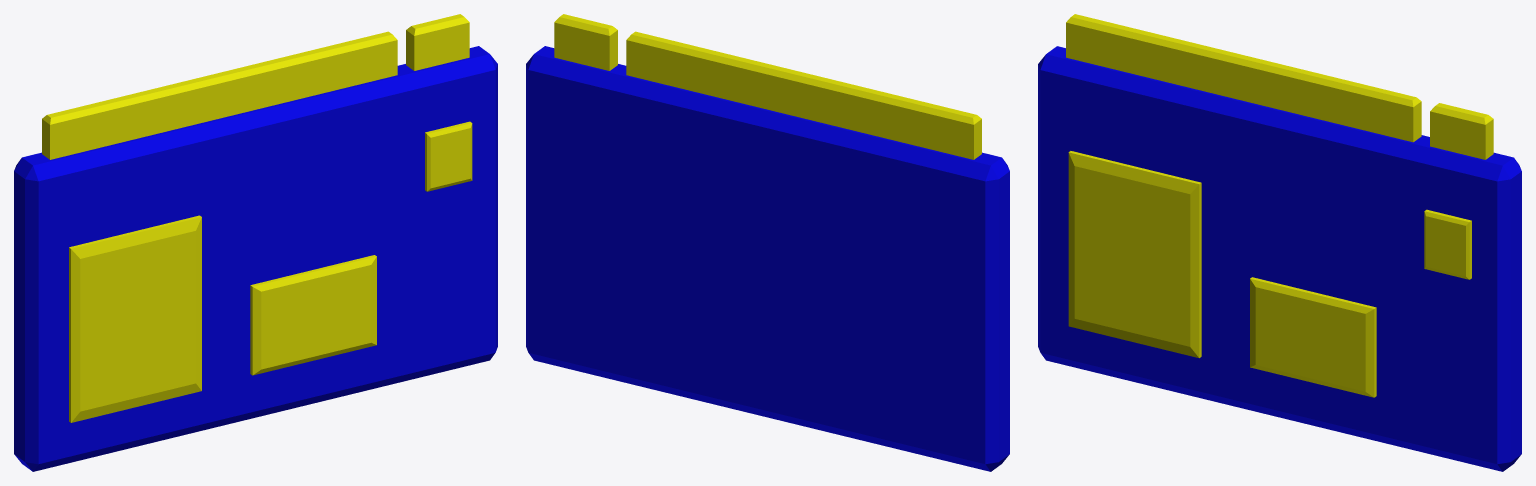
The model's file is Tarjeta_3.fbx.
3 views of the same model, side by side, from view 1: azimuth 30°, elevation 25°; view 2: azimuth 150°, elevation 25°; view 3: azimuth 330°, elevation 25° (orthographic).
Parts seen in each view (by area): view 1: pCube19; view 2: pCube19; view 3: pCube19.
Boxes of the visible parts, left/top/right/bottom form: pCube19: left=14, top=14, right=497, bottom=471; pCube19: left=526, top=14, right=1009, bottom=471; pCube19: left=1038, top=14, right=1521, bottom=471.
Size of the model in its own units: 1.61 by 1.13 by 0.1537.
